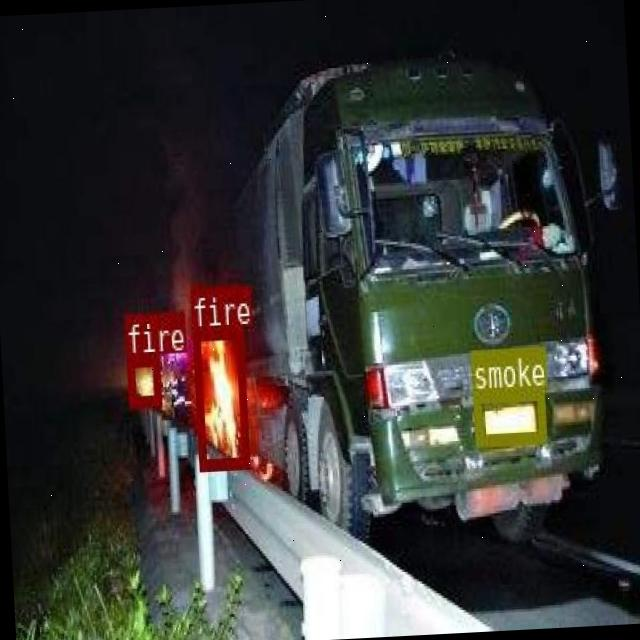fire: (192, 326, 248, 468), (126, 353, 160, 408)
smoke: (472, 388, 544, 443)
